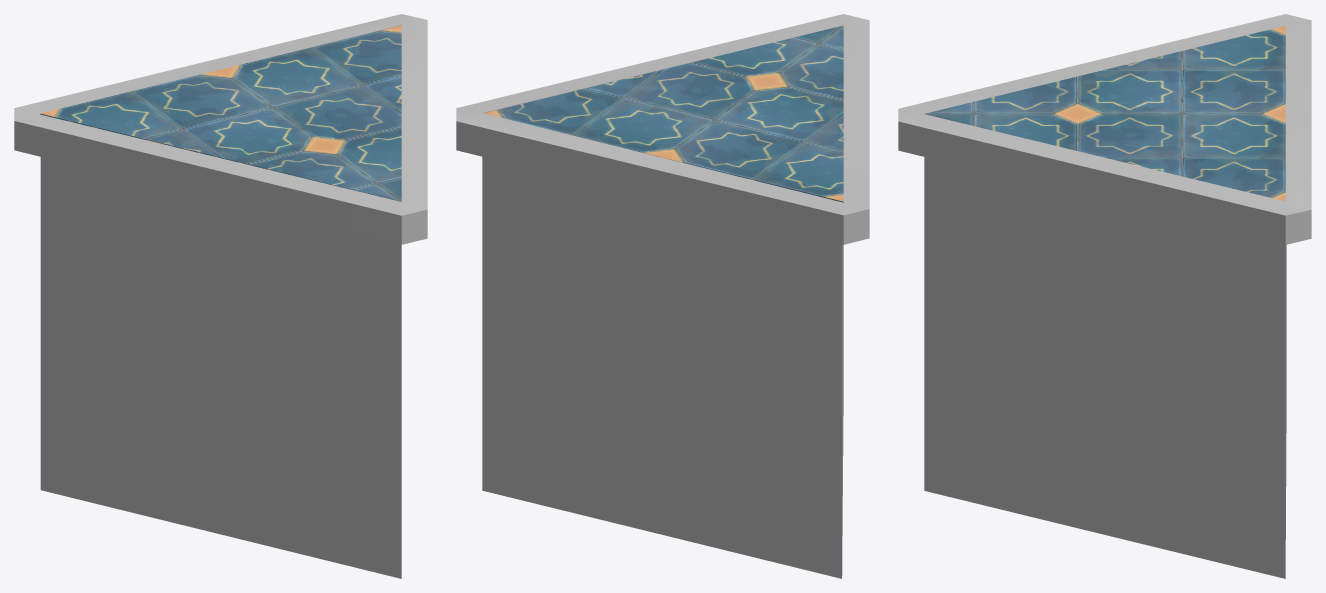
3 renders of one model, left to right at view 1: azimuth 30°, elevation 25°; view 2: azimuth 150°, elevation 25°; view 3: azimuth 270°, elevation 25°, orthographic.
Parts seen in each view (by area): view 1: SM_BB_T4_Foundation_Triangle_Large_01_LOD0; view 2: SM_BB_T4_Foundation_Triangle_Large_01_LOD0; view 3: SM_BB_T4_Foundation_Triangle_Large_01_LOD0.
Boxes of the visible parts, x1=… form: SM_BB_T4_Foundation_Triangle_Large_01_LOD0: x1=14, y1=14, x2=427, y2=578; SM_BB_T4_Foundation_Triangle_Large_01_LOD0: x1=456, y1=14, x2=869, y2=578; SM_BB_T4_Foundation_Triangle_Large_01_LOD0: x1=898, y1=14, x2=1311, y2=578.
Bounding box in the file's own units: 3.43 × 3 × 2.97.
